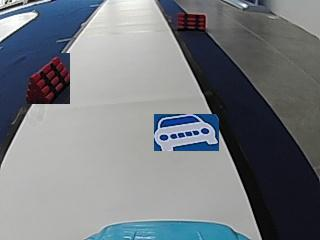bomb: (174, 13, 207, 29)
